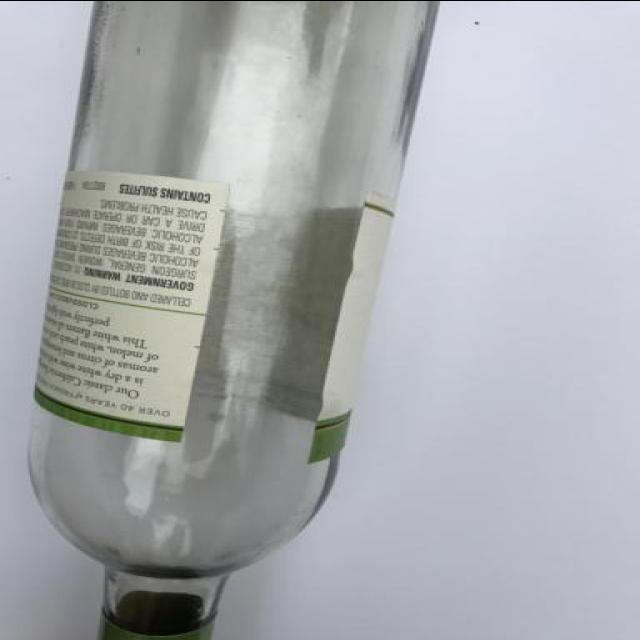glass: (31, 0, 447, 640)
